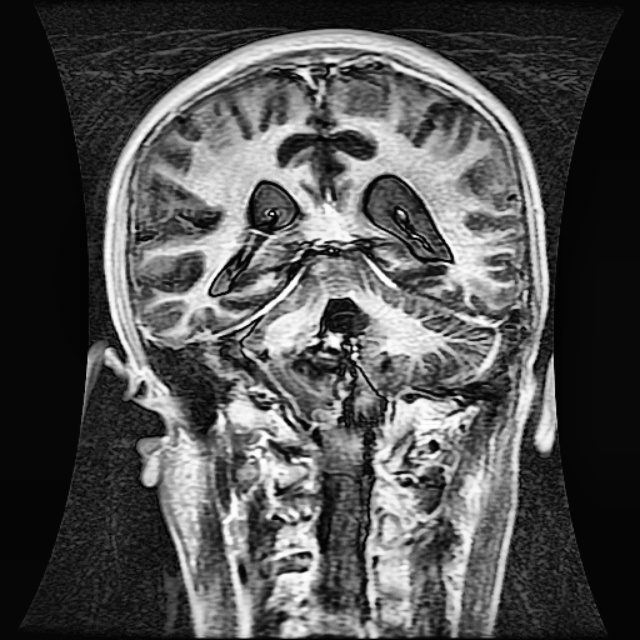Meningioma: (284, 283, 398, 427)
